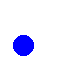circle: (13, 35, 33, 55)
